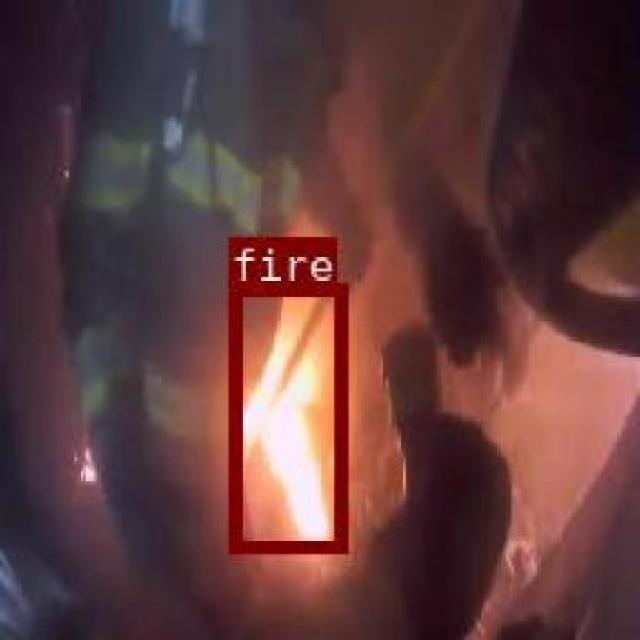Fire: (228, 282, 344, 550)
